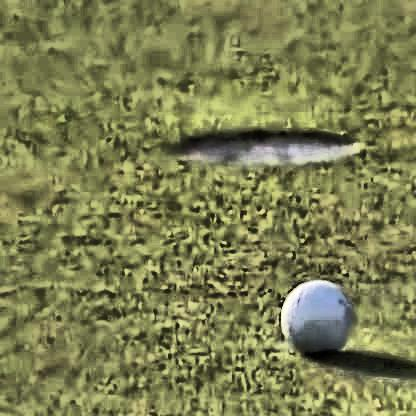golfball: (277, 276, 351, 352)
